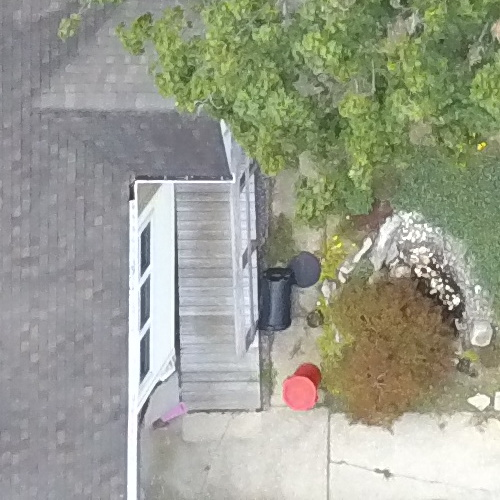container: (152, 400, 191, 435)
no larvae: (150, 398, 189, 433)
